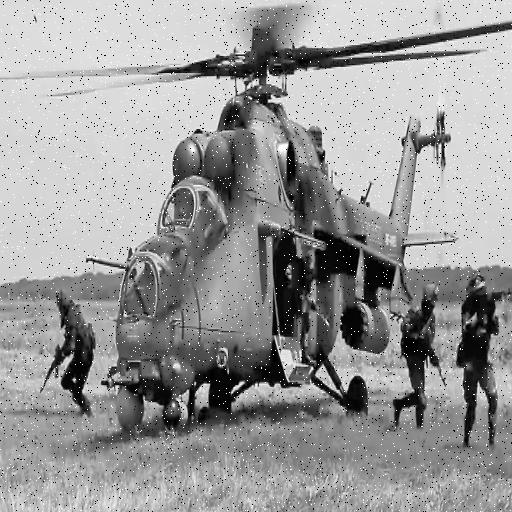helicopter: (63, 1, 506, 451)
